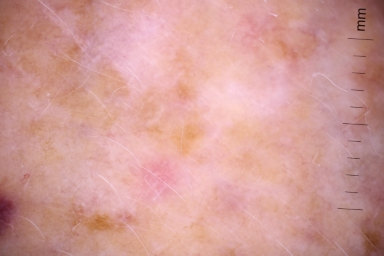nevus: (113, 18, 168, 102), (142, 161, 176, 198)
